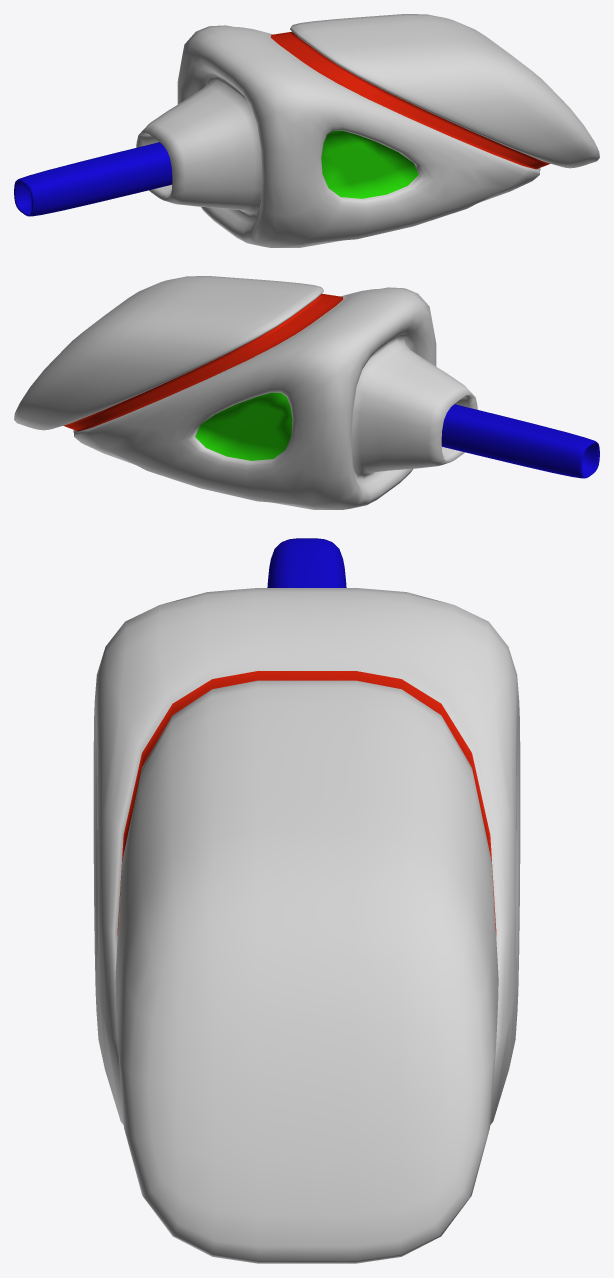
Rendered from UnionWeapon_01.fbx.
The picture shows the model from 3 angles, top to bottom: view 1: azimuth 30°, elevation 25°; view 2: azimuth 150°, elevation 25°; view 3: azimuth 270°, elevation 25°; orthographic projection. The views are drawn at different scales.
Parts seen in each view (by area): view 1: Cube; view 2: Cube; view 3: Cube.
Part boxes in pixels (x1,y1,x2,y2): Cube: (14, 14, 599, 247); Cube: (14, 276, 599, 509); Cube: (93, 538, 520, 1263).
Bounding box in the file's own units: 0.7483 × 0.7091 × 2.23.
